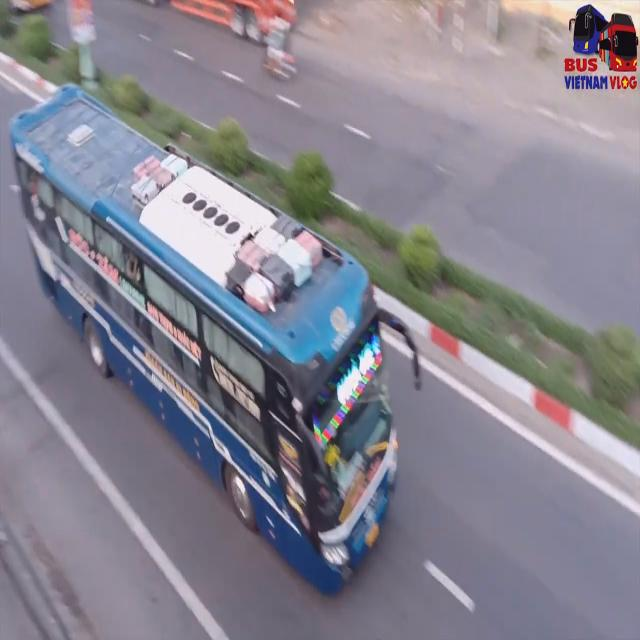bus: (15, 85, 400, 583)
